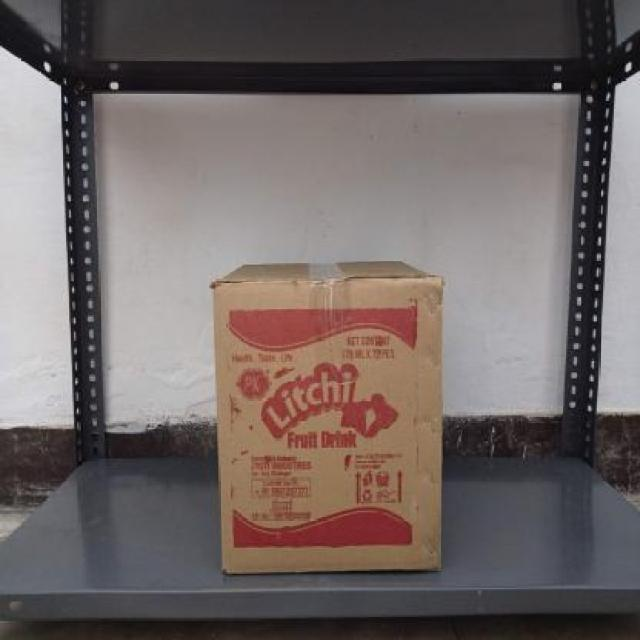box: (211, 276, 443, 575)
